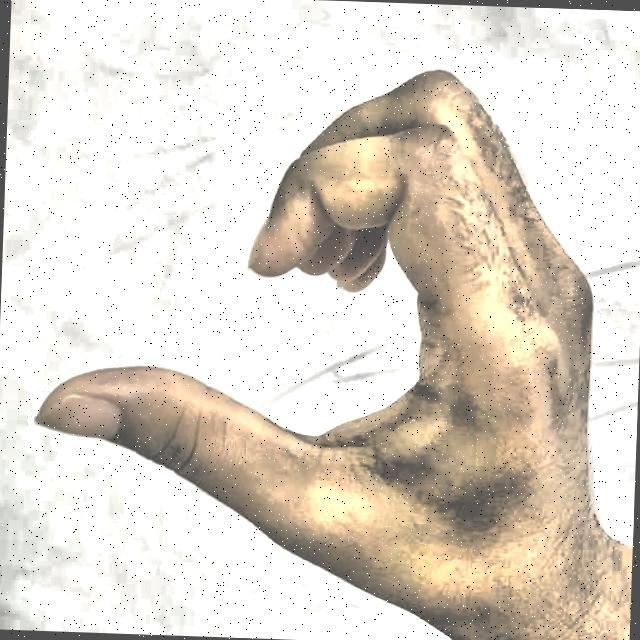Kha: (8, 4, 628, 635)
